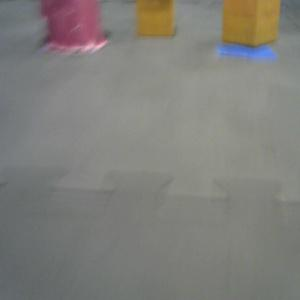middle: (39, 1, 108, 52)
